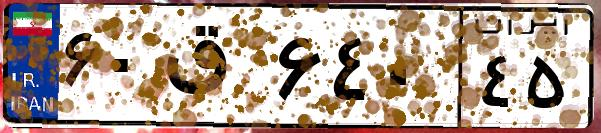0: (385, 28, 445, 110), (110, 28, 158, 98)
4: (330, 28, 385, 110), (475, 38, 525, 113)
5: (525, 38, 570, 115)
6: (270, 28, 330, 110), (57, 26, 110, 100)
ق: (158, 20, 270, 120)
